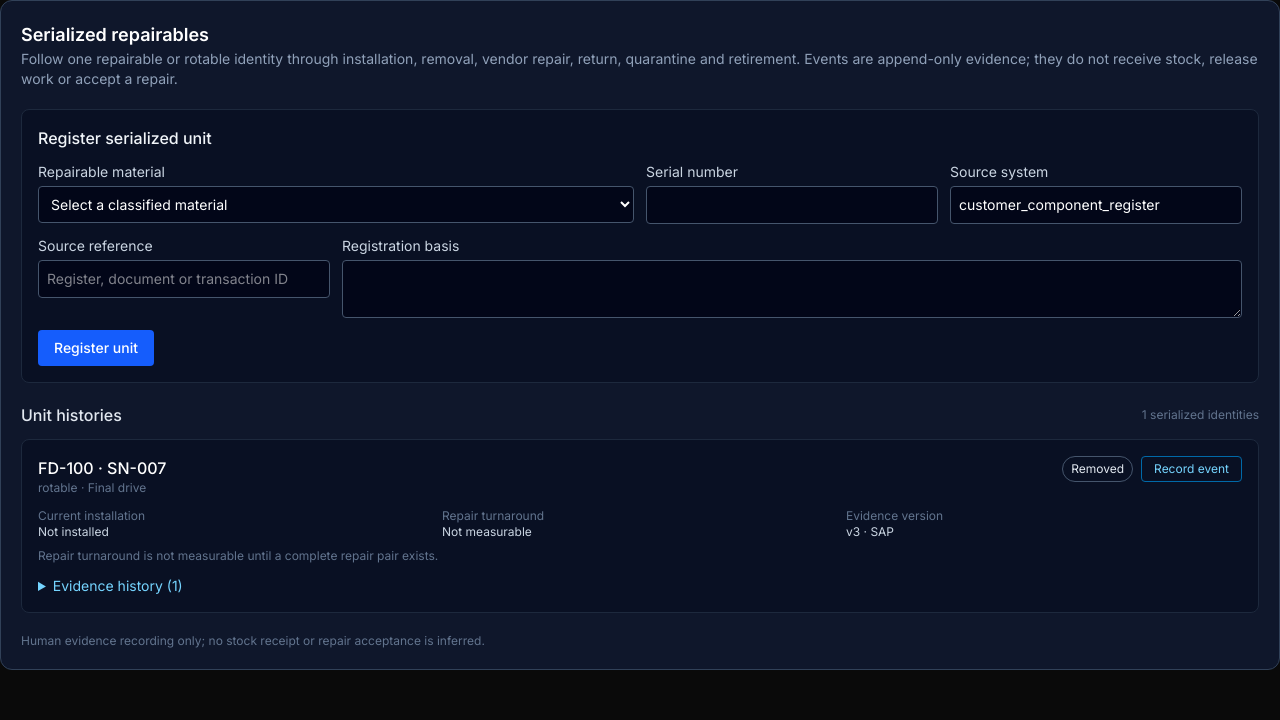
Test case: RepairableUnitRegister › registers a serialized identity without implying stock or installation
The width and height of the screenshot is (1280, 720).
expect the text "1 serialized identities" is shown: met, box [1142,407,1259,423]
Step 1. Select "FD-100 · Final drive · rotable" in the dropdown labelled "Repairable material" → (336, 204), box [38,186,634,223]
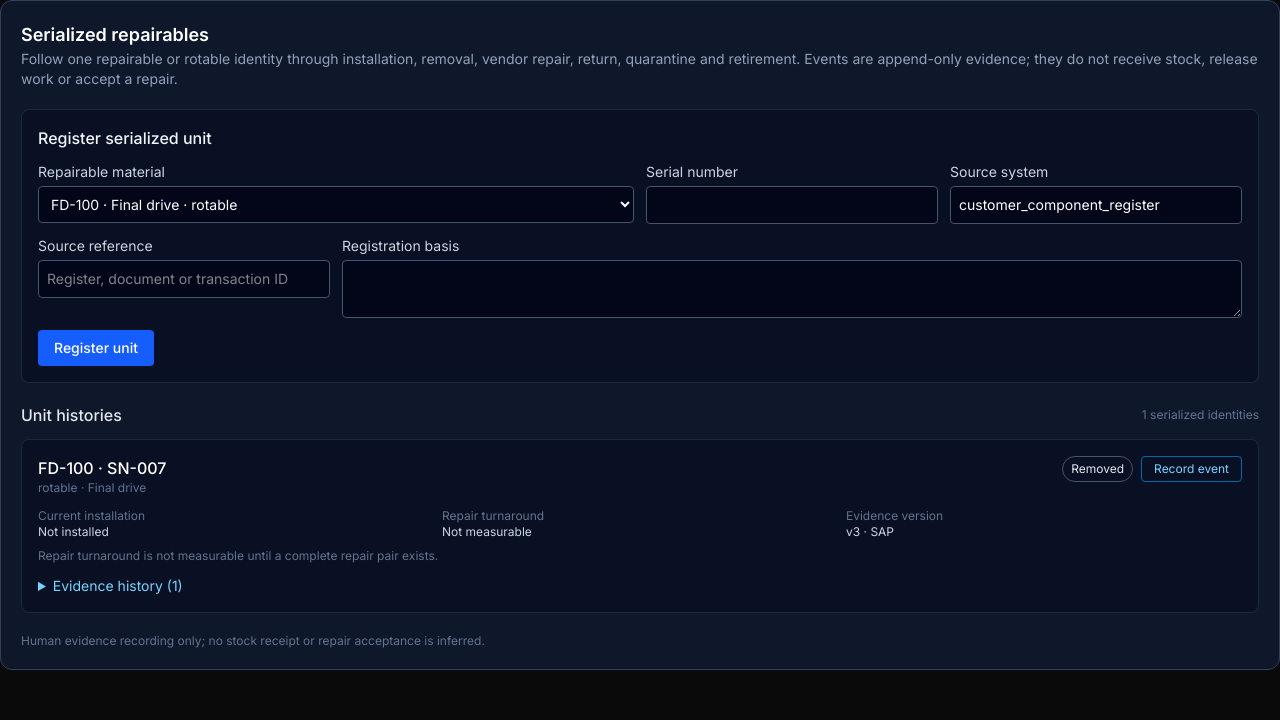
Step 2. Type "SN-008" into the field labelled "Serial number" → (792, 205), box [646,186,938,224]
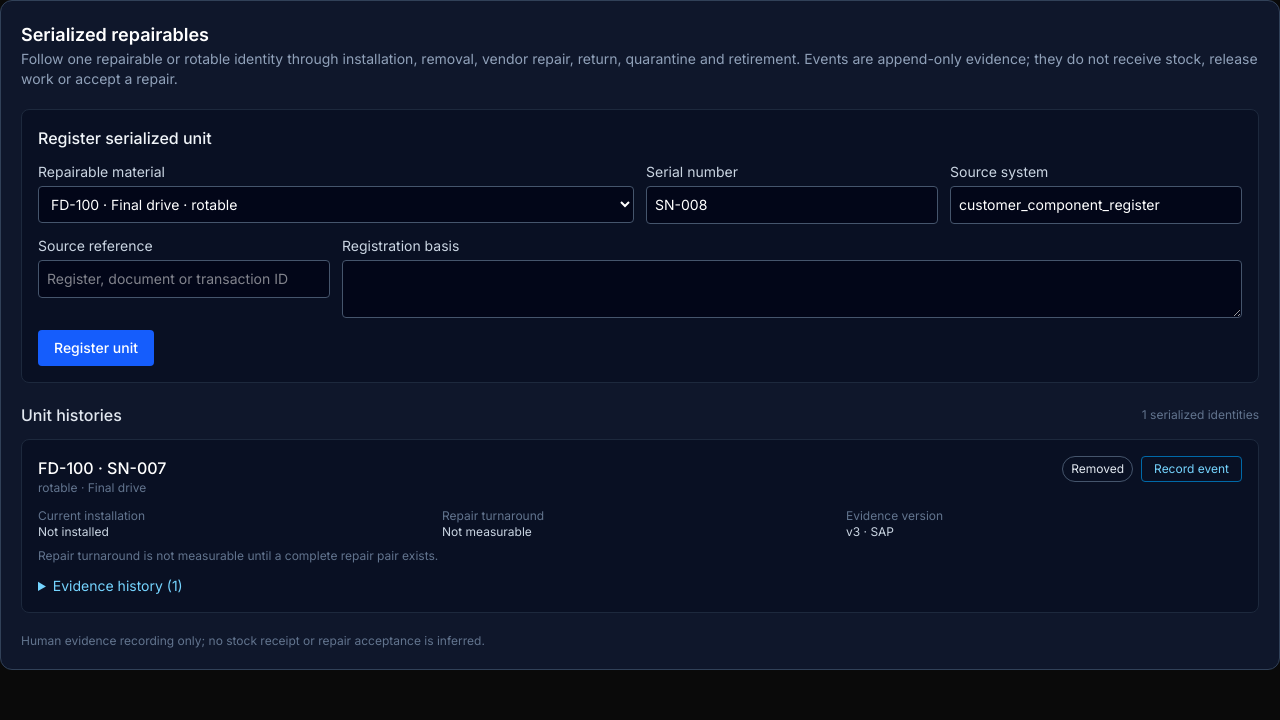
Step 3. Type "SER-8" into the field labelled "Source reference" → (184, 279), box [38,260,330,298]
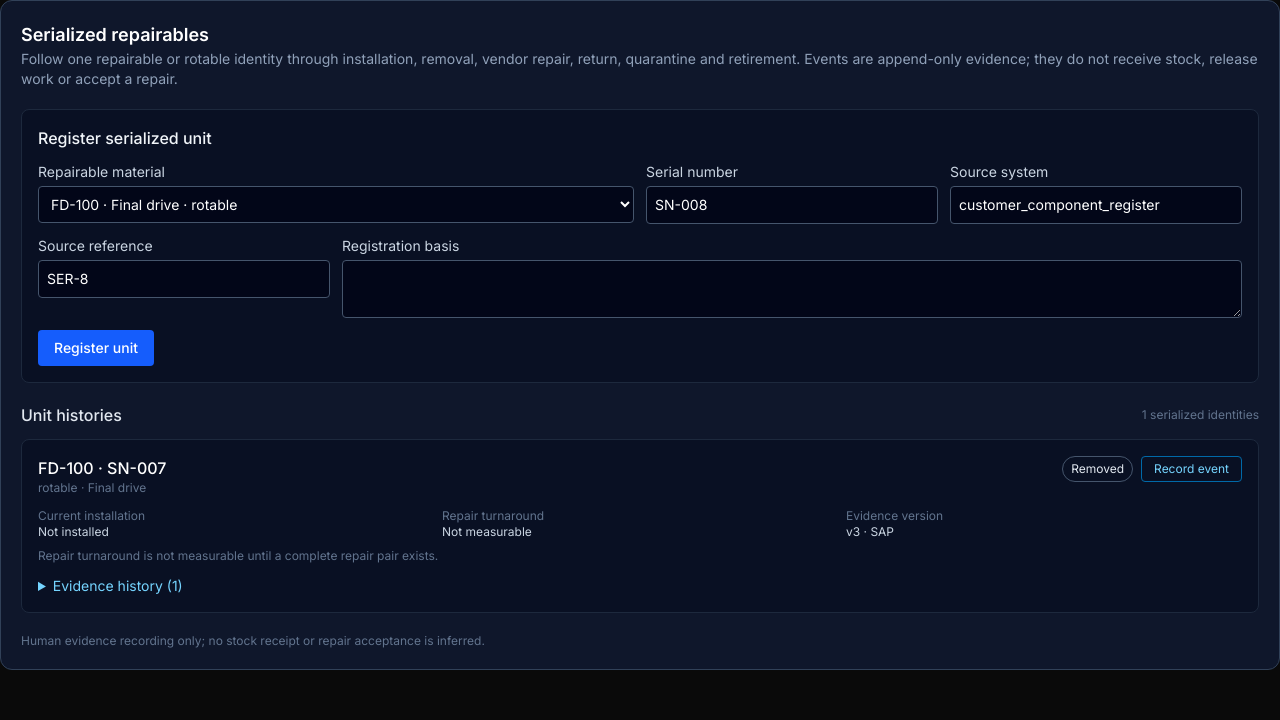
Step 4. Type "Verified serialized component register row eight." into the text box labelled "Registration basis" → (792, 289), box [342,260,1242,318]
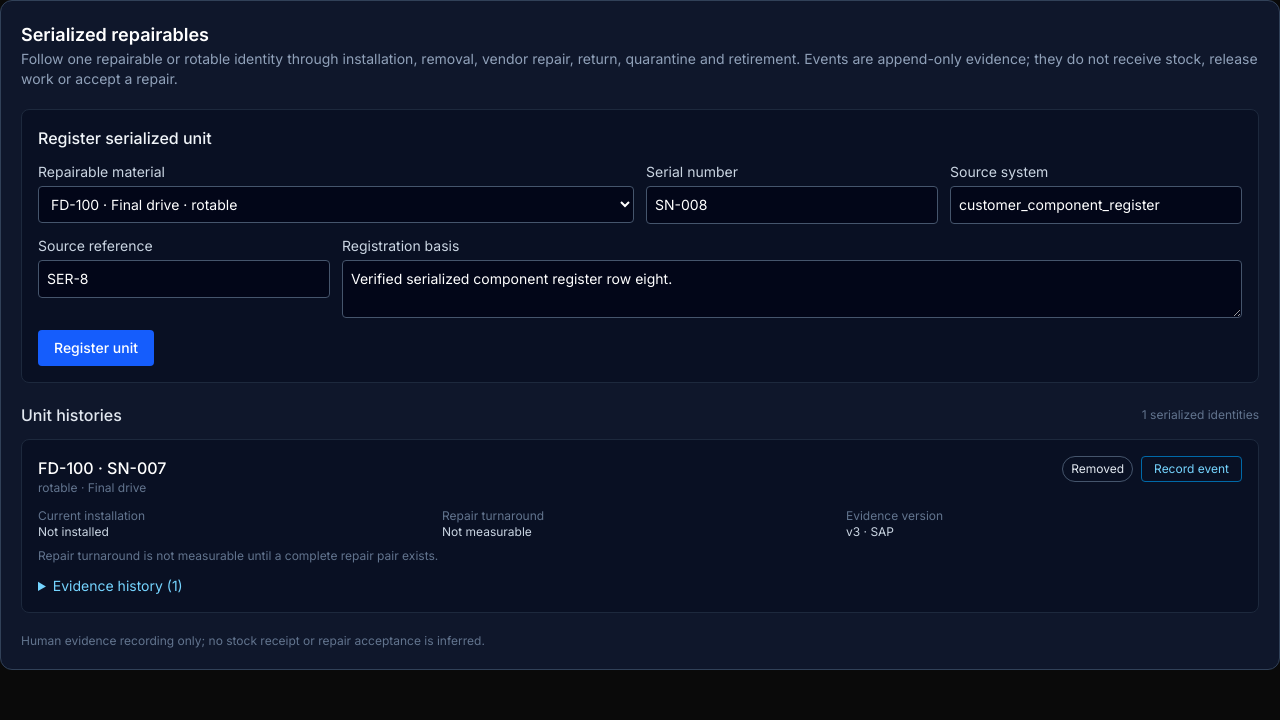
Step 5. Click the button "Register unit" → (96, 348), box [38,330,154,366]
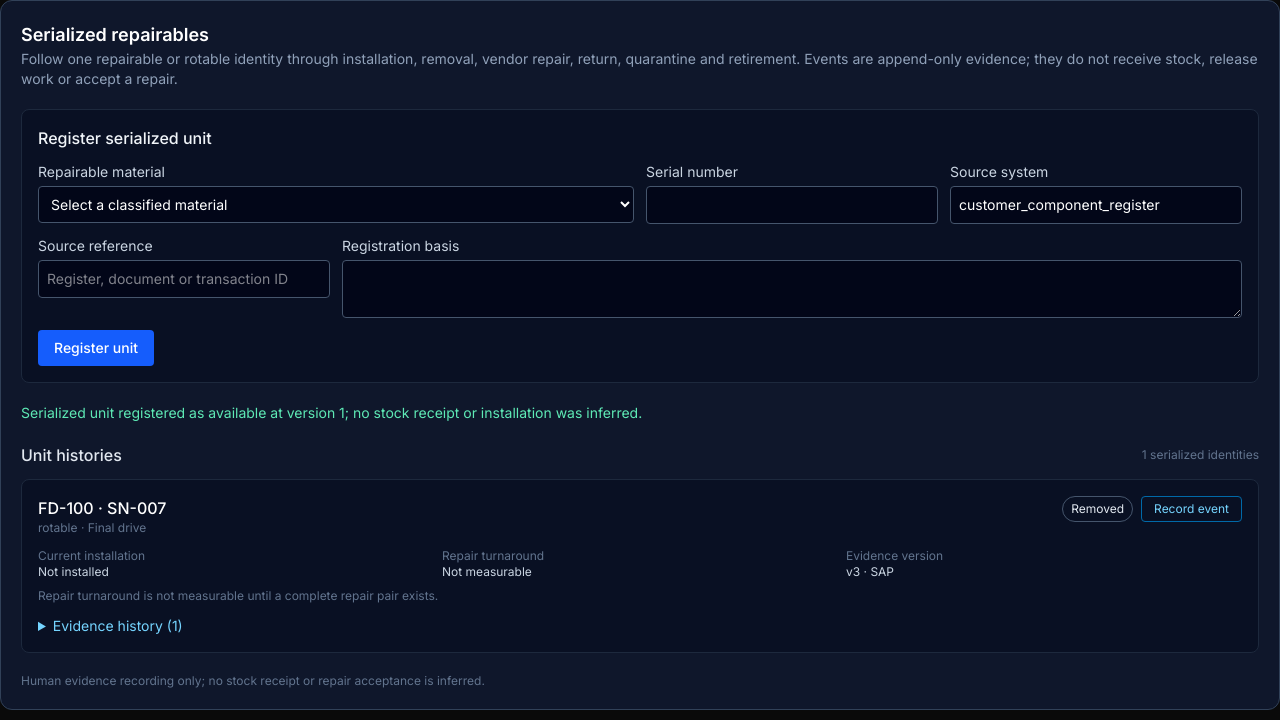
expect the message shows "no stock receipt or installation was inferred": met, box [21,404,642,421]
